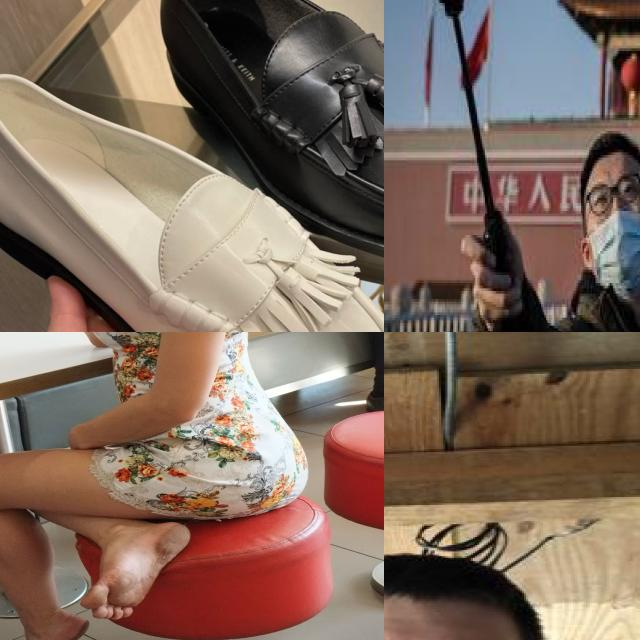Barefoots: (80, 522, 191, 620), (12, 610, 89, 640)
Sandals: (0, 49, 384, 332), (117, 0, 384, 291)
face_mask: (586, 163, 640, 293)
glasses: (587, 172, 640, 217)
hand_noglove: (458, 226, 530, 327)
head_nohelmet: (384, 548, 572, 629), (573, 120, 640, 173)
person: (440, 128, 640, 332), (384, 540, 640, 640)
